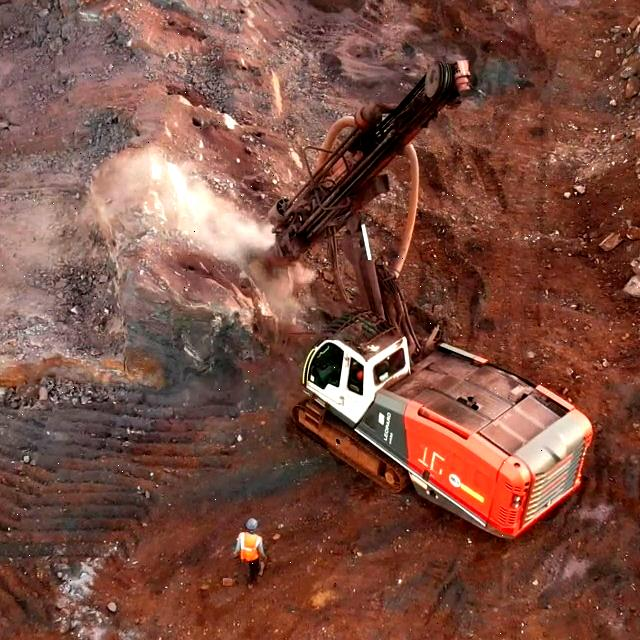Blast rig: (276, 52, 596, 536)
person: (238, 518, 270, 587)
